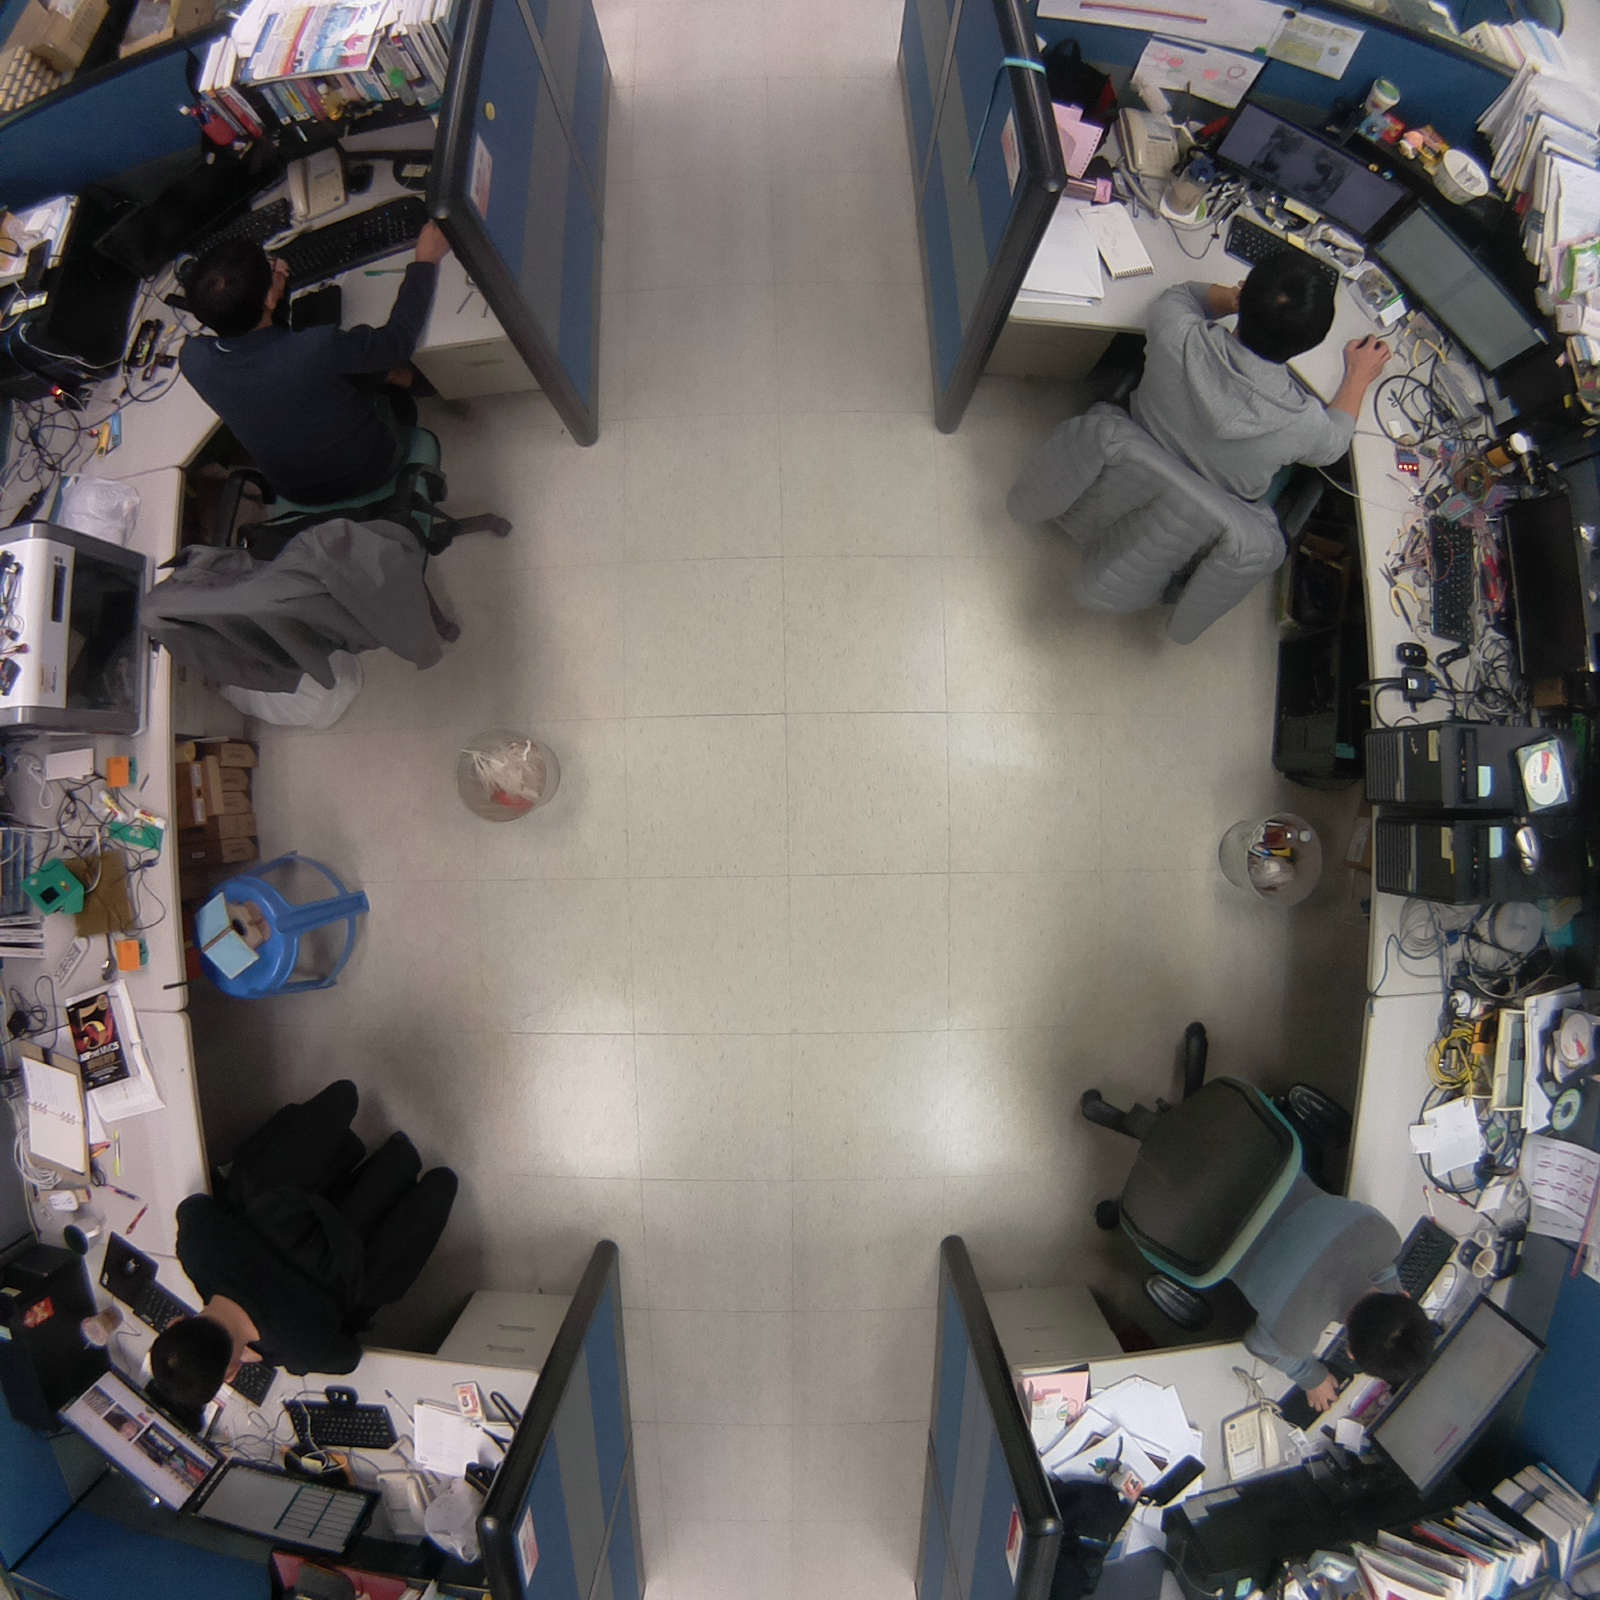head: (172, 225, 287, 344), (1229, 246, 1342, 363), (1336, 1278, 1446, 1395), (146, 1300, 249, 1417)
sitting: (132, 212, 529, 693), (983, 243, 1393, 660), (1060, 991, 1453, 1417), (136, 1055, 483, 1418)
